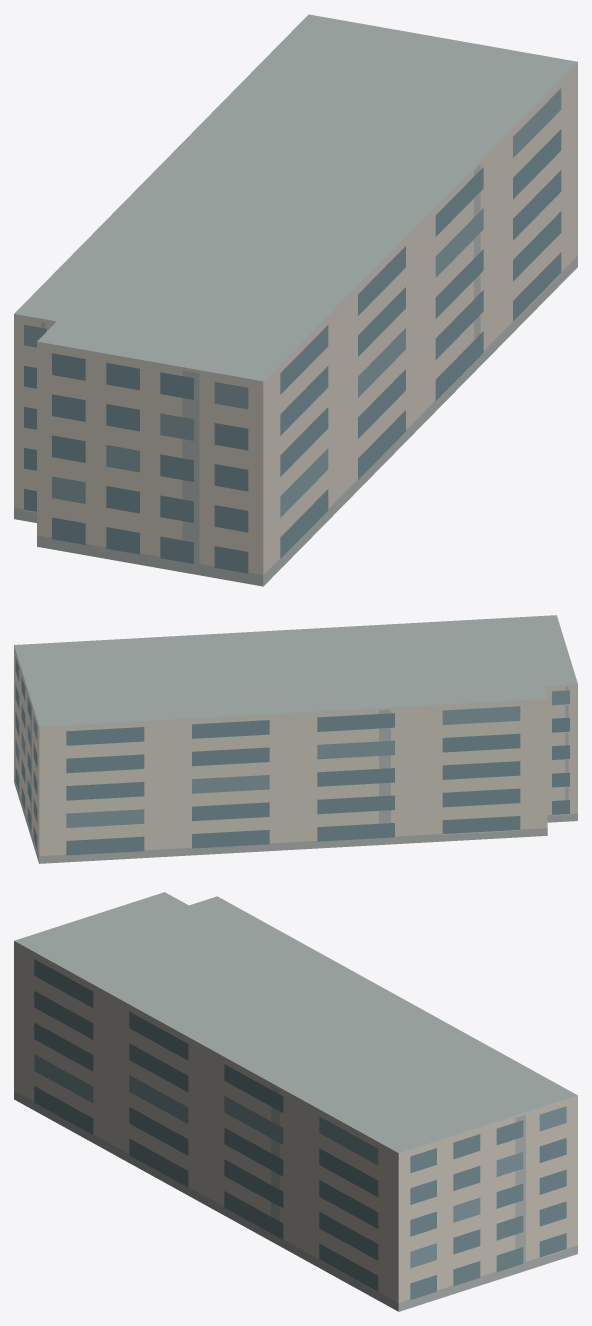
The model's file is residential-76811b5c-4fe7-4de6-a7e7-4d33e89264f5.glb.
3 renders of one model, top to bottom at view 1: azimuth 30°, elevation 25°; view 2: azimuth 150°, elevation 25°; view 3: azimuth 270°, elevation 25°, orthographic. The views are drawn at different scales.
Parts seen in each view (by area): view 1: residential-76811b5c-4fe7-4de6-a7e7-4d33e89264f5.tmp; view 2: residential-76811b5c-4fe7-4de6-a7e7-4d33e89264f5.tmp; view 3: residential-76811b5c-4fe7-4de6-a7e7-4d33e89264f5.tmp.
Part boxes in pixels (x1=…): residential-76811b5c-4fe7-4de6-a7e7-4d33e89264f5.tmp: x1=14, y1=14, x2=577, y2=586; residential-76811b5c-4fe7-4de6-a7e7-4d33e89264f5.tmp: x1=14, y1=615, x2=577, y2=863; residential-76811b5c-4fe7-4de6-a7e7-4d33e89264f5.tmp: x1=14, y1=892, x2=577, y2=1311.
Bounding box in the file's own units: 53.85 × 15.25 × 49.13.
